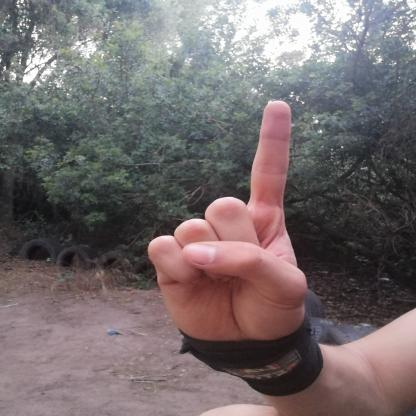BAA: (129, 87, 326, 362)
